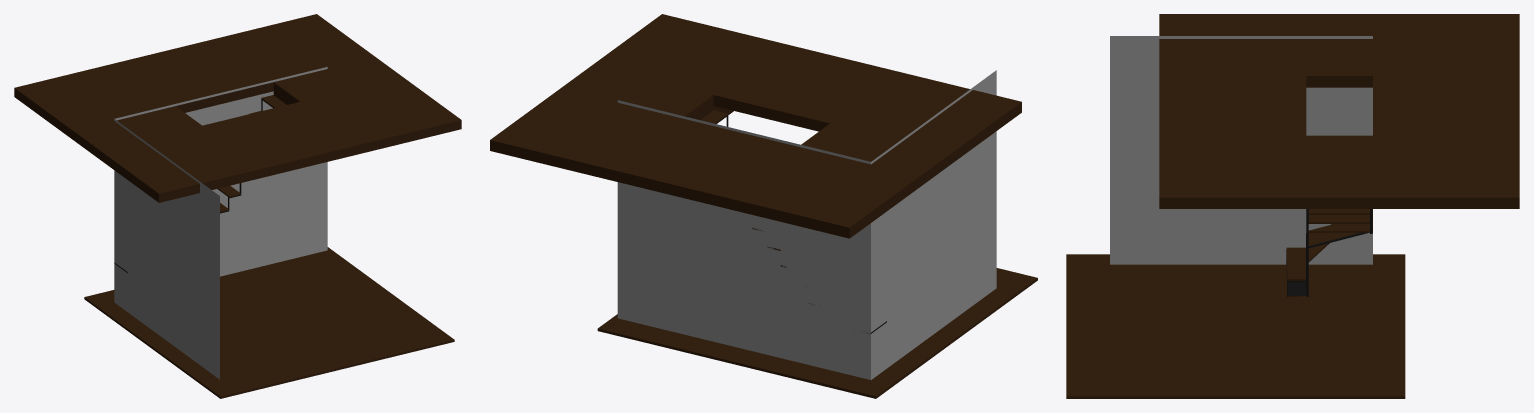
File: STAIR.fbx
The picture shows the model from 3 angles, left to right: view 1: azimuth 30°, elevation 25°; view 2: azimuth 150°, elevation 25°; view 3: azimuth 270°, elevation 25°; orthographic projection. The views are drawn at different scales.
Visible parts, largest first — view 1: Rectangle010, Line008, Rectangle009, Object018; view 2: Rectangle010, Line008, Rectangle009; view 3: Rectangle010, Rectangle009, Line008, Object018.
Part boxes in pixels (box(x1,y1,x2,y2)): Rectangle010: box(14, 14, 461, 202); Line008: box(114, 67, 327, 379); Rectangle009: box(84, 247, 454, 398); Object018: box(114, 95, 286, 272); Rectangle010: box(490, 14, 1021, 238); Line008: box(617, 70, 996, 379); Rectangle009: box(597, 268, 1037, 398); Rectangle010: box(1159, 14, 1519, 208); Rectangle009: box(1066, 254, 1405, 398); Line008: box(1110, 36, 1372, 264); Object018: box(1286, 209, 1372, 296).
Size of the model in its own units: 517 by 304 by 540.
